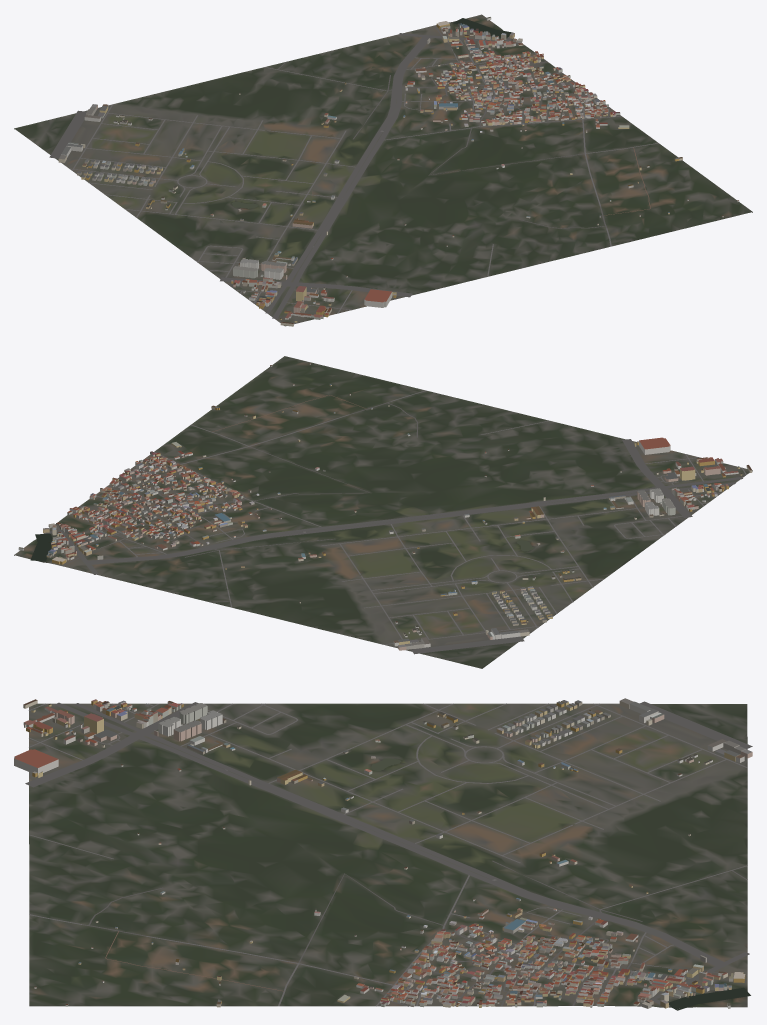
3 views of the same model, one above another, from view 1: azimuth 30°, elevation 25°; view 2: azimuth 150°, elevation 25°; view 3: azimuth 270°, elevation 25° (orthographic). The views are drawn at different scales.
Visible parts, largest first — view 1: ground, buildings, roads; view 2: ground, buildings, roads, water; view 3: ground, buildings, roads, water.
Part boxes in pixels (x1,y1,x2,y2): ground: [14, 14, 752, 326]; buildings: [58, 17, 739, 326]; roads: [49, 25, 658, 323]; ground: [14, 356, 752, 668]; buildings: [18, 363, 752, 650]; roads: [44, 390, 746, 654]; water: [30, 533, 534, 561]; ground: [29, 703, 747, 1007]; buildings: [14, 698, 752, 1008]; roads: [25, 701, 752, 1006]; water: [371, 758, 750, 1010].
Size of the model in its own units: 1425 by 32.51 by 1442.
